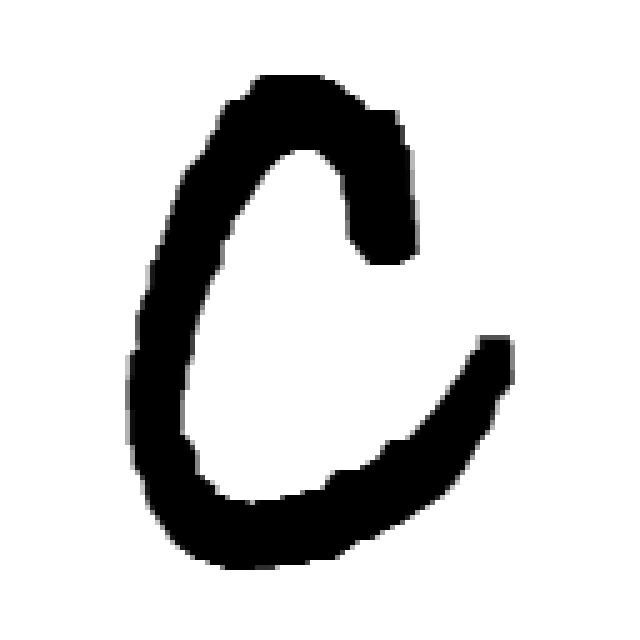C: (125, 75, 515, 575)
